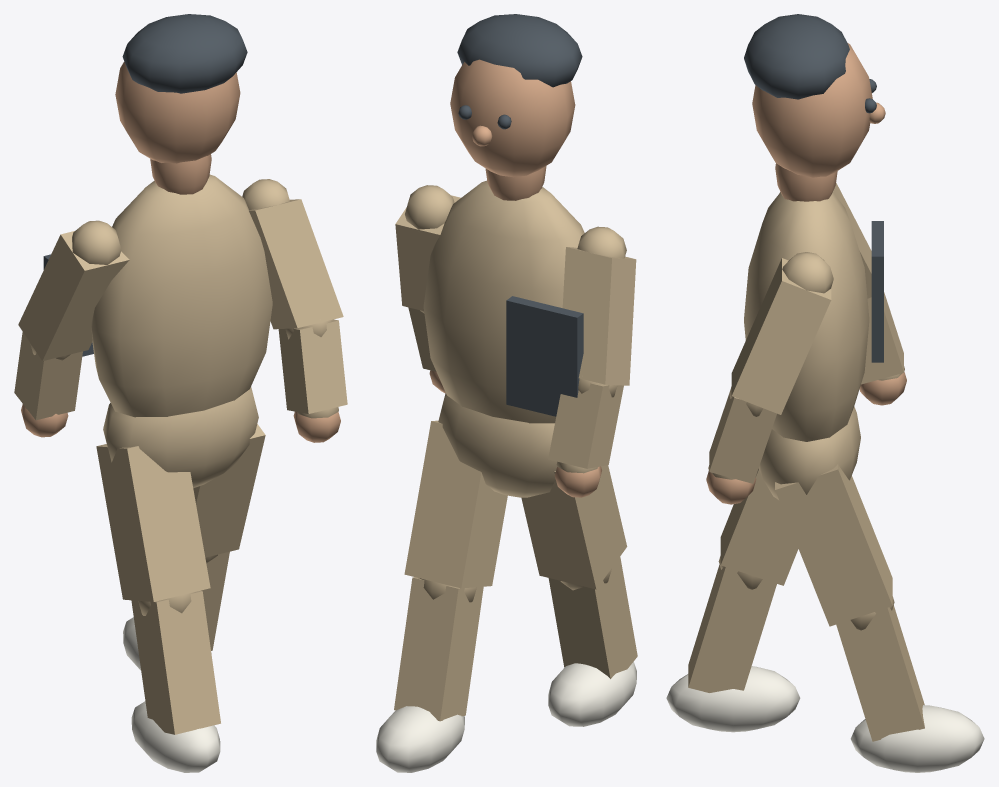
The model's file is person-pemda-step-a.glb.
The picture shows the model from 3 angles, left to right: view 1: azimuth 30°, elevation 25°; view 2: azimuth 150°, elevation 25°; view 3: azimuth 270°, elevation 25°; orthographic projection. The views are drawn at different scales.
Parts seen in each view (by area): view 1: person-pemda-step-a; view 2: person-pemda-step-a; view 3: person-pemda-step-a.
Part boxes in pixels (x1,y1,x2,y2): person-pemda-step-a: (14, 14, 347, 772); person-pemda-step-a: (376, 14, 637, 772); person-pemda-step-a: (666, 14, 984, 772).
Bounding box in the file's own units: 0.71 × 1.91 × 0.76.
